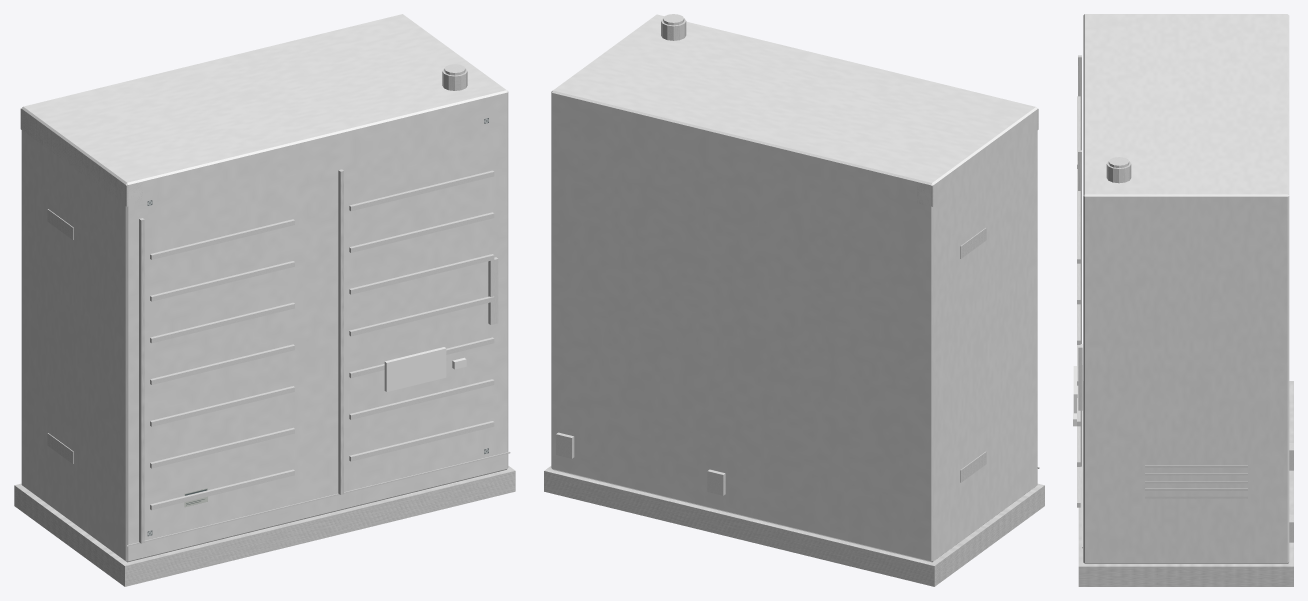
Rendered from standbygenerator_large.obj.
3 renders of one model, left to right at view 1: azimuth 30°, elevation 25°; view 2: azimuth 150°, elevation 25°; view 3: azimuth 270°, elevation 25°, orthographic. The views are drawn at different scales.
Parts seen in each view (by area): view 1: Case, Trim, Vents, Display; view 2: Case, Trim, Output; view 3: Case, Trim, Vents.
Boxes of the visible parts, bbox=[...] form: Case: bbox=[21, 14, 508, 562]; Trim: bbox=[14, 68, 515, 586]; Vents: bbox=[150, 64, 494, 510]; Display: bbox=[384, 347, 446, 391]; Case: bbox=[551, 14, 1037, 562]; Trim: bbox=[544, 18, 1044, 586]; Output: bbox=[556, 432, 725, 495]; Case: bbox=[1083, 14, 1289, 563]; Trim: bbox=[1078, 55, 1293, 586]; Vents: bbox=[1077, 96, 1129, 507].
Size of the model in its own units: 1.96 by 2 by 0.985.
